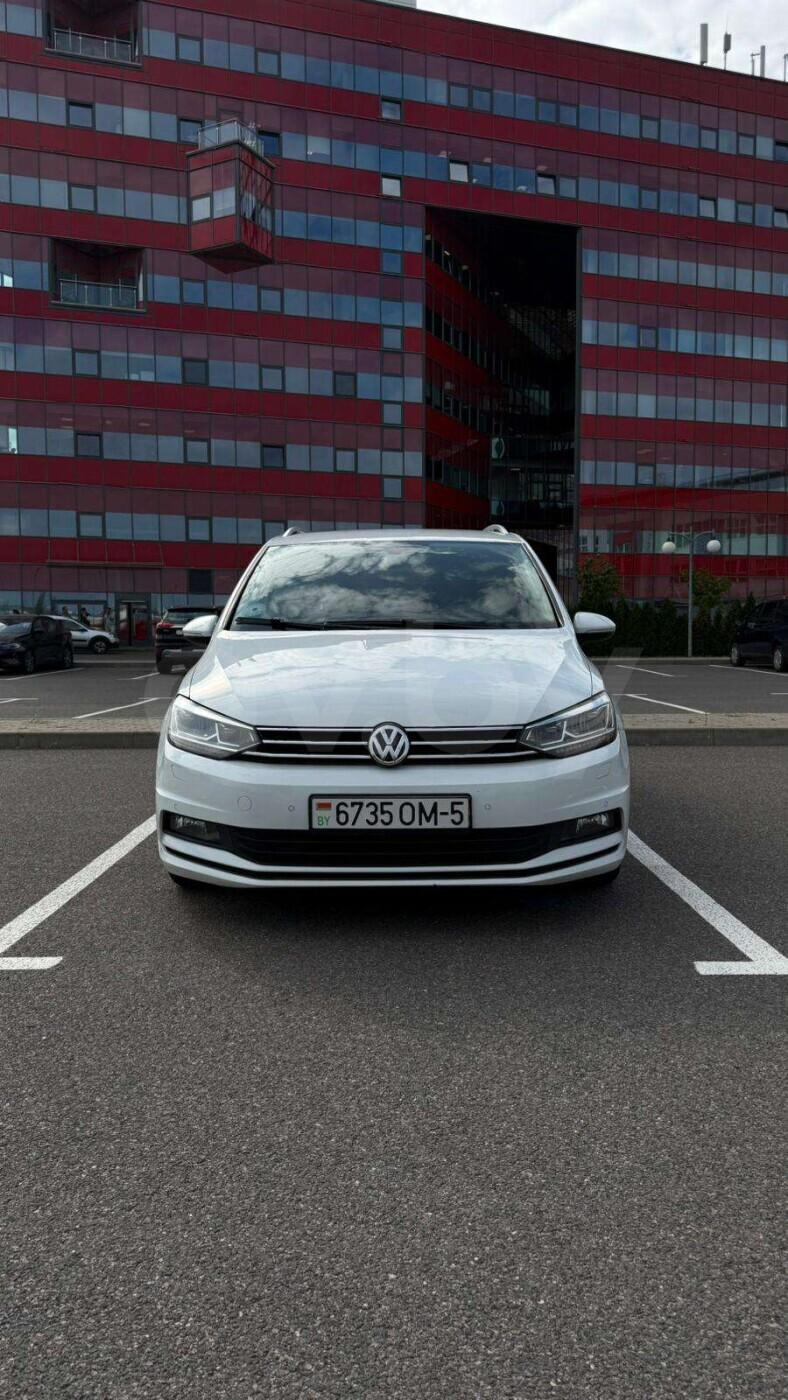Touran_2015: (150, 526, 646, 922)
